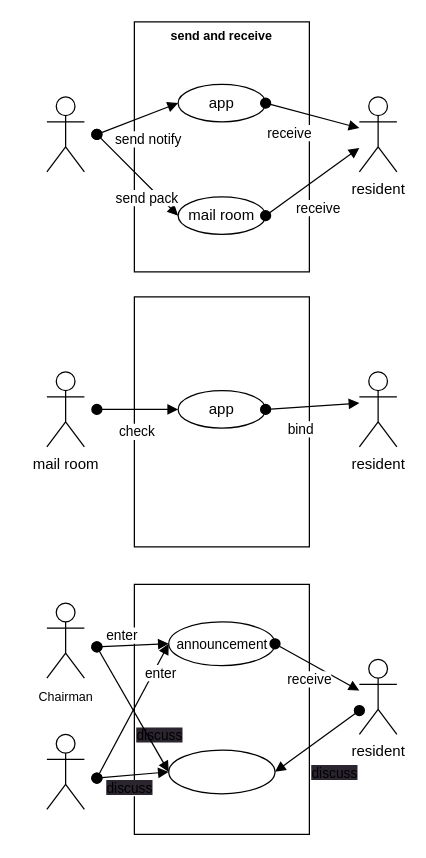
Image size: 426x858. Some labels were removed from this diagram. The shapes that lost their labels are listed below. From the top down, each one's box as (x1, y1, x2, y2) in pixels, then its label:
(46, 96, 84, 172): postman
(133, 296, 309, 547): smarthphone bind app
(133, 583, 309, 834): announcement and discuss
(46, 733, 84, 809): member
(168, 749, 275, 794): forum
